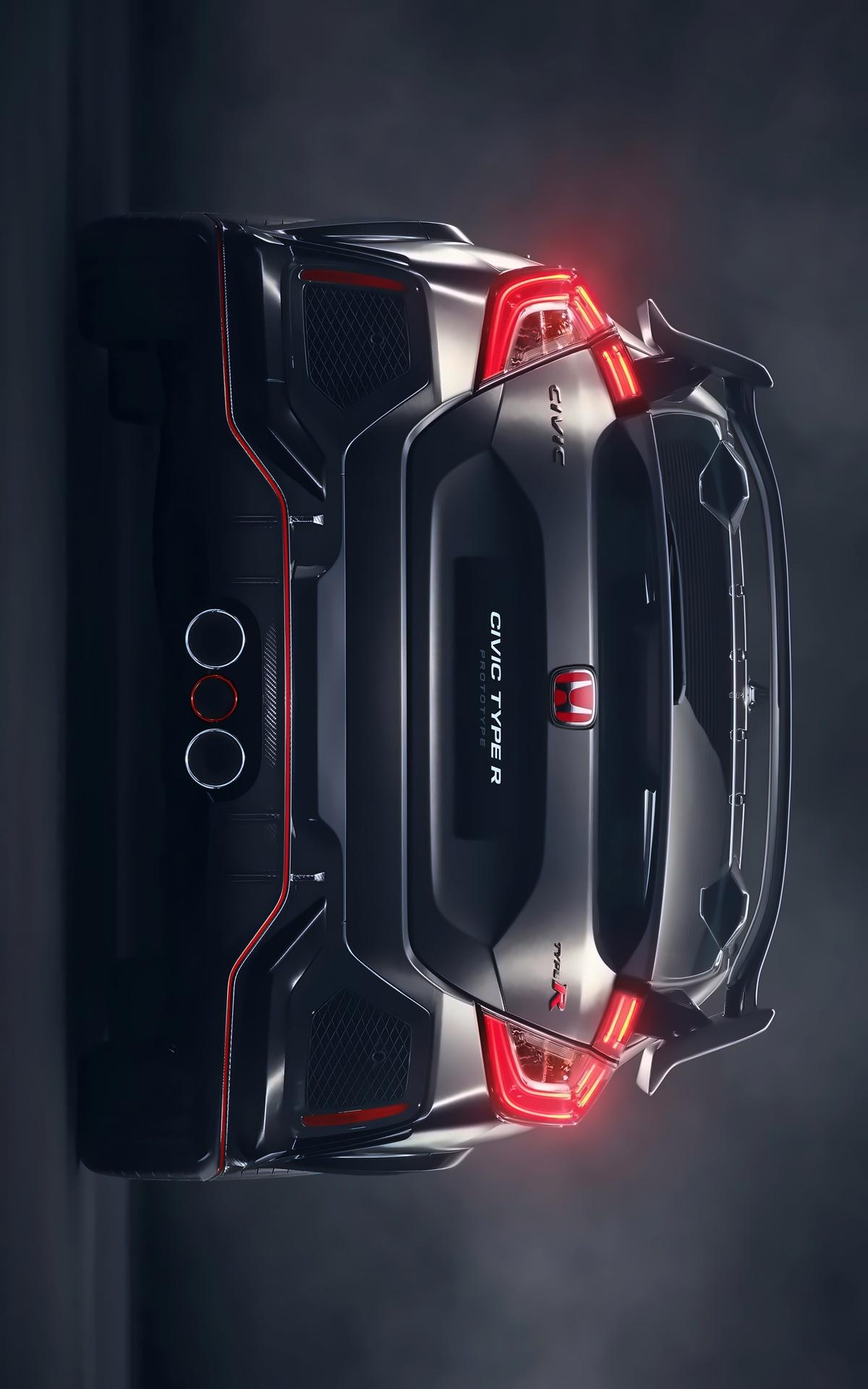Car boot: (331, 331, 760, 1056)
Rear bumper: (89, 196, 432, 1185)
Rear light - -L-: (473, 258, 644, 415)
Rear light - -R-: (482, 977, 650, 1127)
